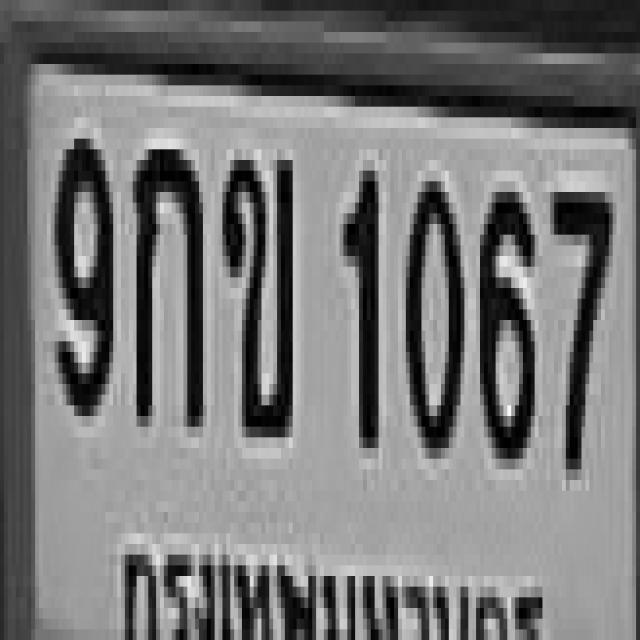0: (402, 171, 460, 448)
1: (340, 160, 374, 437)
10GorGai: (129, 139, 199, 416)
11KhorKhai: (218, 149, 288, 427)
6: (476, 181, 531, 448)
7: (546, 176, 609, 464)
9: (51, 128, 109, 405)
